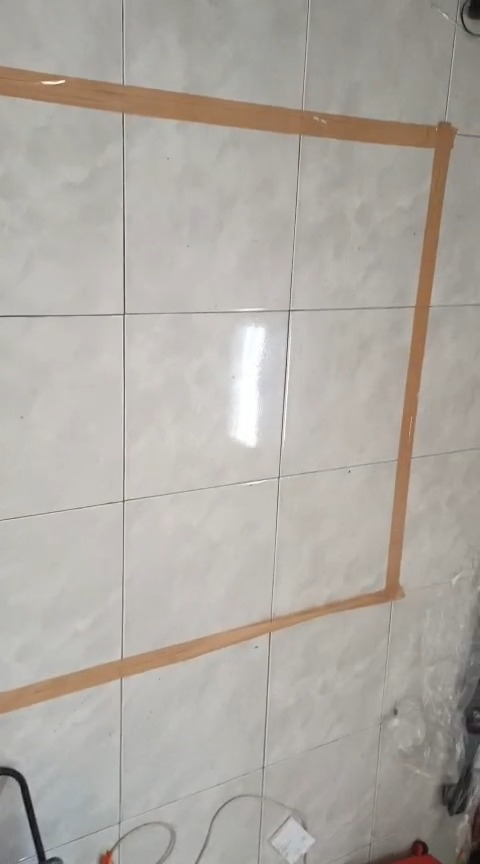floor marking: (0, 68, 455, 714)
